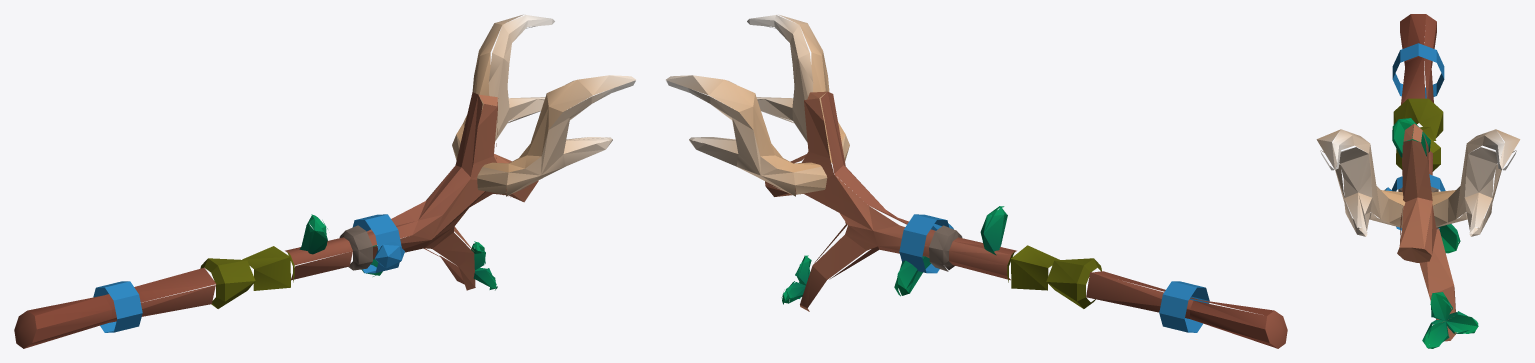
File: druid_staff_t2.glb
3 renders of one model, left to right at view 1: azimuth 30°, elevation 25°; view 2: azimuth 150°, elevation 25°; view 3: azimuth 270°, elevation 25°, orthographic. The views are drawn at different scales.
Visible parts, largest first — view 1: druid_staff_t2__handslot_r; view 2: druid_staff_t2__handslot_r; view 3: druid_staff_t2__handslot_r.
Boxes of the visible parts, <box> form: druid_staff_t2__handslot_r: <box>14,14,635,348</box>; druid_staff_t2__handslot_r: <box>666,14,1287,348</box>; druid_staff_t2__handslot_r: <box>1316,14,1520,348</box>.
Bounding box in the file's own units: 2.26 × 0.8746 × 0.6707.
Materials: 2 (2 with a texture image).
